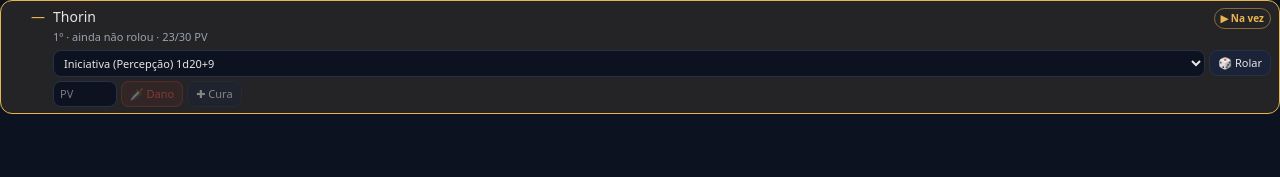
Test: ParticipanteNaOrdem — rolar iniciativa (RV-158) › erro da rota fica visível na linha
This screenshot has width=1280, height=177.
Step 1. Click the button "🎲 Rolar" → (1240, 63), box [1209,50,1271,76]
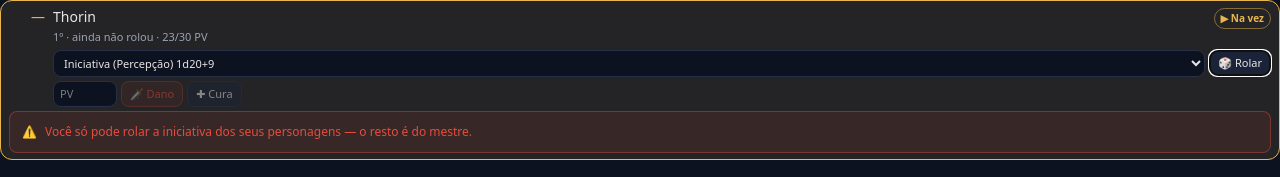
Expected: the text "só pode rolar a iniciativa dos seus personagens" is shown, [45,123,472,140]
